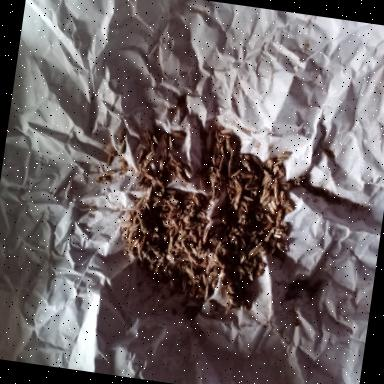pbw: (230, 182, 243, 210), (144, 126, 160, 144), (271, 176, 282, 202), (102, 140, 118, 157), (243, 176, 260, 192), (168, 152, 184, 168), (274, 238, 290, 254), (150, 174, 166, 190), (184, 251, 200, 266), (248, 243, 262, 260), (140, 148, 154, 164), (260, 154, 274, 170), (140, 155, 156, 169), (176, 170, 190, 186), (263, 225, 275, 243), (234, 182, 244, 203), (274, 208, 284, 228), (258, 186, 269, 204), (225, 292, 239, 306), (239, 156, 253, 170), (180, 164, 194, 178), (137, 220, 150, 234), (166, 234, 175, 254), (148, 138, 158, 156), (134, 243, 144, 261), (95, 173, 111, 184), (201, 225, 210, 244), (260, 221, 273, 234), (128, 220, 141, 233), (207, 298, 219, 312), (166, 255, 180, 267), (260, 172, 272, 186), (184, 220, 200, 230), (165, 199, 178, 211), (265, 200, 276, 214), (238, 225, 252, 236), (261, 193, 272, 207), (237, 204, 248, 218), (283, 198, 294, 212), (179, 240, 190, 254), (118, 125, 126, 144), (202, 283, 210, 302), (162, 144, 170, 163), (192, 192, 202, 207), (276, 150, 291, 160), (168, 217, 180, 229), (240, 280, 252, 292), (118, 138, 126, 156), (135, 172, 144, 188), (180, 274, 188, 292), (250, 154, 262, 166), (122, 249, 136, 259), (232, 278, 242, 292), (240, 170, 254, 180), (188, 242, 198, 256), (134, 210, 144, 224), (144, 129, 152, 146), (162, 225, 170, 242), (268, 242, 276, 259), (136, 148, 144, 165), (166, 134, 174, 151), (278, 189, 286, 206), (160, 131, 169, 146), (197, 162, 208, 174), (184, 265, 195, 277), (152, 197, 164, 208), (195, 208, 206, 220), (156, 255, 166, 268), (176, 229, 186, 242), (188, 230, 198, 243), (147, 256, 156, 270), (226, 158, 233, 176), (182, 190, 194, 200), (273, 155, 283, 167), (224, 137, 232, 152), (104, 152, 112, 167), (120, 219, 132, 229), (219, 153, 226, 170), (127, 162, 136, 175), (130, 212, 138, 226), (272, 226, 286, 234), (158, 158, 166, 172), (266, 176, 274, 190), (205, 269, 213, 283), (160, 219, 174, 227), (150, 231, 160, 242), (224, 184, 235, 194), (229, 168, 240, 178), (150, 133, 159, 145), (198, 256, 207, 268), (186, 286, 195, 298), (271, 164, 280, 176), (280, 180, 293, 188), (220, 126, 233, 134), (216, 180, 224, 193), (103, 169, 116, 177), (240, 194, 253, 202), (176, 219, 184, 232), (266, 214, 276, 224), (216, 260, 226, 270), (195, 289, 204, 300), (164, 188, 178, 195), (145, 186, 152, 200), (200, 272, 207, 286), (168, 277, 176, 289), (139, 234, 145, 250), (238, 234, 246, 246), (270, 198, 278, 210), (186, 206, 194, 218), (251, 168, 259, 180), (172, 130, 184, 138), (144, 243, 156, 251), (238, 253, 246, 265), (120, 228, 128, 240), (211, 265, 218, 278), (248, 234, 257, 244), (272, 229, 282, 238), (221, 246, 230, 256), (217, 270, 226, 280), (152, 248, 162, 257), (134, 196, 142, 207), (188, 278, 199, 286), (155, 269, 163, 280), (168, 196, 179, 204), (179, 252, 186, 264), (228, 232, 236, 242), (196, 282, 204, 292), (256, 260, 264, 270), (226, 284, 234, 294), (278, 166, 286, 176), (210, 278, 216, 291), (196, 237, 202, 250), (254, 269, 262, 278), (214, 240, 220, 252), (126, 209, 132, 221), (232, 144, 238, 156), (245, 266, 253, 275), (174, 241, 183, 249), (160, 204, 169, 212), (218, 132, 230, 138), (234, 240, 240, 252), (210, 153, 216, 165), (208, 176, 215, 186), (200, 150, 207, 160), (164, 192, 174, 199), (212, 254, 219, 264), (222, 232, 228, 243), (176, 208, 182, 219), (132, 237, 138, 248), (252, 212, 260, 220), (206, 166, 214, 174), (246, 272, 254, 280), (165, 255, 174, 262), (144, 201, 150, 211), (214, 130, 219, 142), (236, 216, 243, 224), (199, 251, 207, 258), (232, 178, 240, 185), (154, 190, 162, 197), (168, 227, 174, 236), (219, 144, 224, 154), (184, 204, 192, 210), (181, 198, 187, 206), (210, 234, 216, 242), (210, 169, 216, 177), (214, 168, 220, 176), (144, 176, 150, 184), (166, 268, 172, 276), (204, 152, 210, 160), (142, 194, 146, 205), (215, 190, 220, 198), (215, 158, 220, 166), (142, 253, 148, 259), (215, 142, 220, 149), (159, 211, 164, 218), (250, 230, 255, 237), (233, 226, 237, 232), (211, 188, 214, 196), (213, 193, 214, 199)
